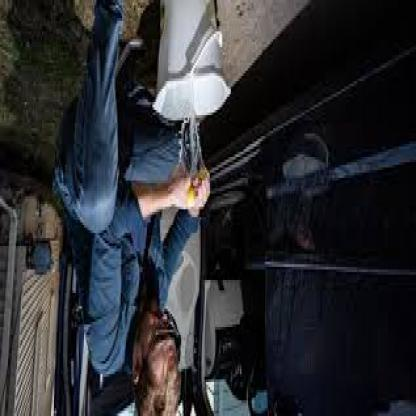dent: (278, 127, 335, 206)
